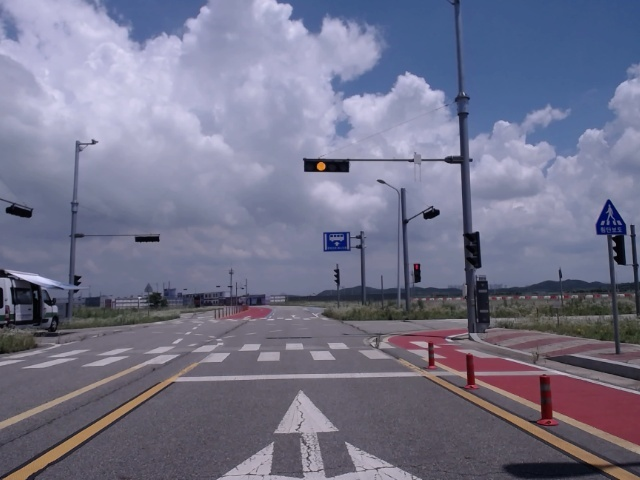orange_4: (304, 158, 348, 172)
